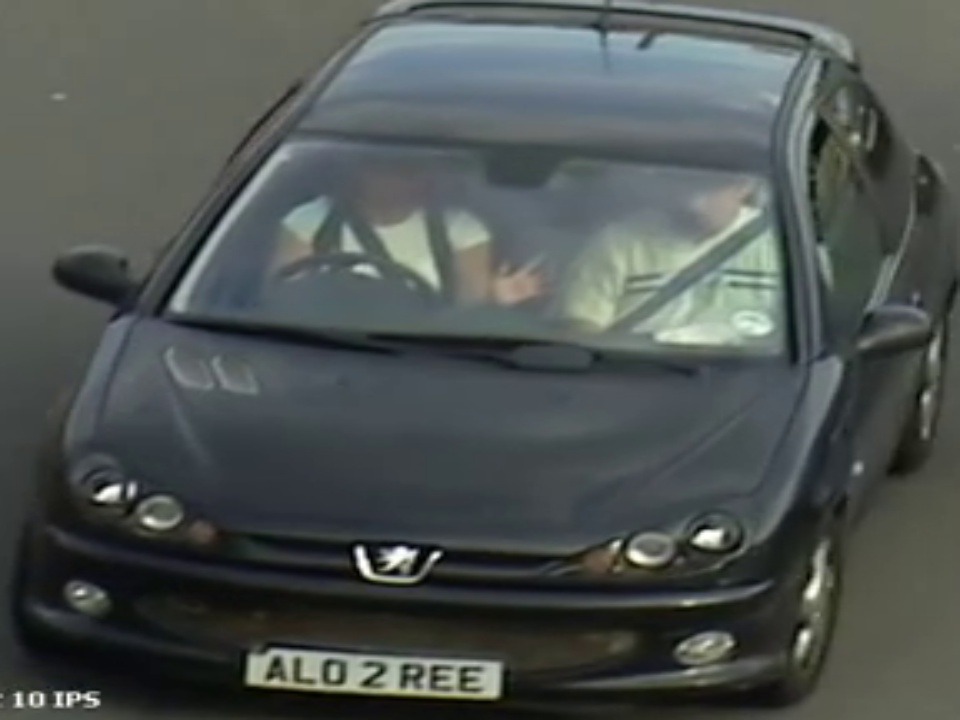TWO: (225, 126, 797, 364)
